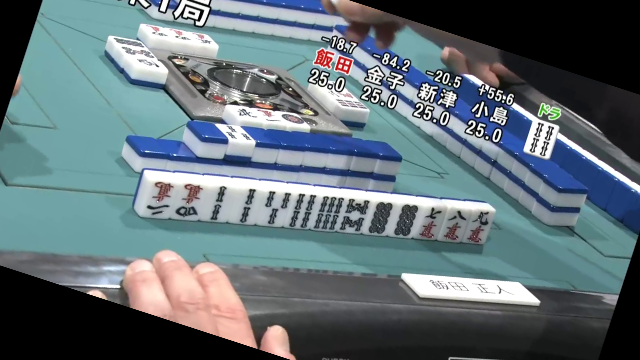Tehai: (132, 161, 502, 257)
